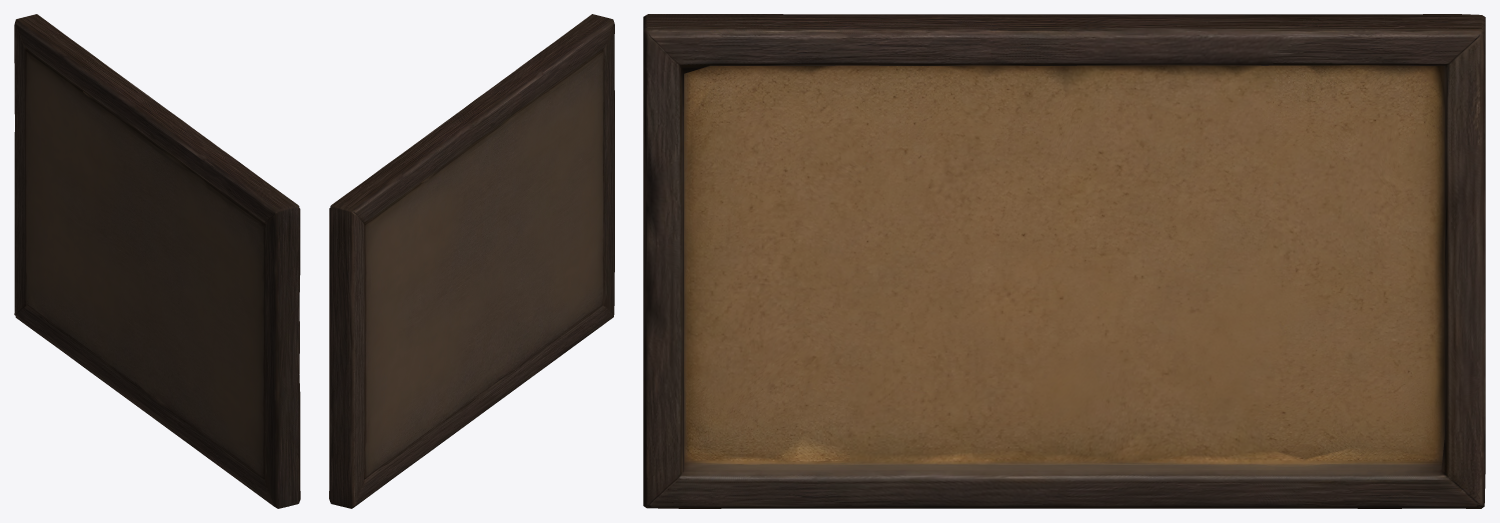
File: framed+corkboard+3d+model.glb
The picture shows the model from 3 angles, left to right: view 1: azimuth 30°, elevation 25°; view 2: azimuth 150°, elevation 25°; view 3: azimuth 270°, elevation 25°; orthographic projection. The views are drawn at different scales.
Visible parts, largest first — view 1: tripo_node_e4b9ba3e-9c58-498d-a6db-28009c26580e; view 2: tripo_node_e4b9ba3e-9c58-498d-a6db-28009c26580e; view 3: tripo_node_e4b9ba3e-9c58-498d-a6db-28009c26580e.
Part boxes in pixels (<box>): tripo_node_e4b9ba3e-9c58-498d-a6db-28009c26580e: <box>14,14,300,508</box>; tripo_node_e4b9ba3e-9c58-498d-a6db-28009c26580e: <box>329,14,614,508</box>; tripo_node_e4b9ba3e-9c58-498d-a6db-28009c26580e: <box>643,14,1485,508</box>.
Bounding box in the file's own units: 0.0567 × 0.6283 × 1.
1 material, 1 textured.
